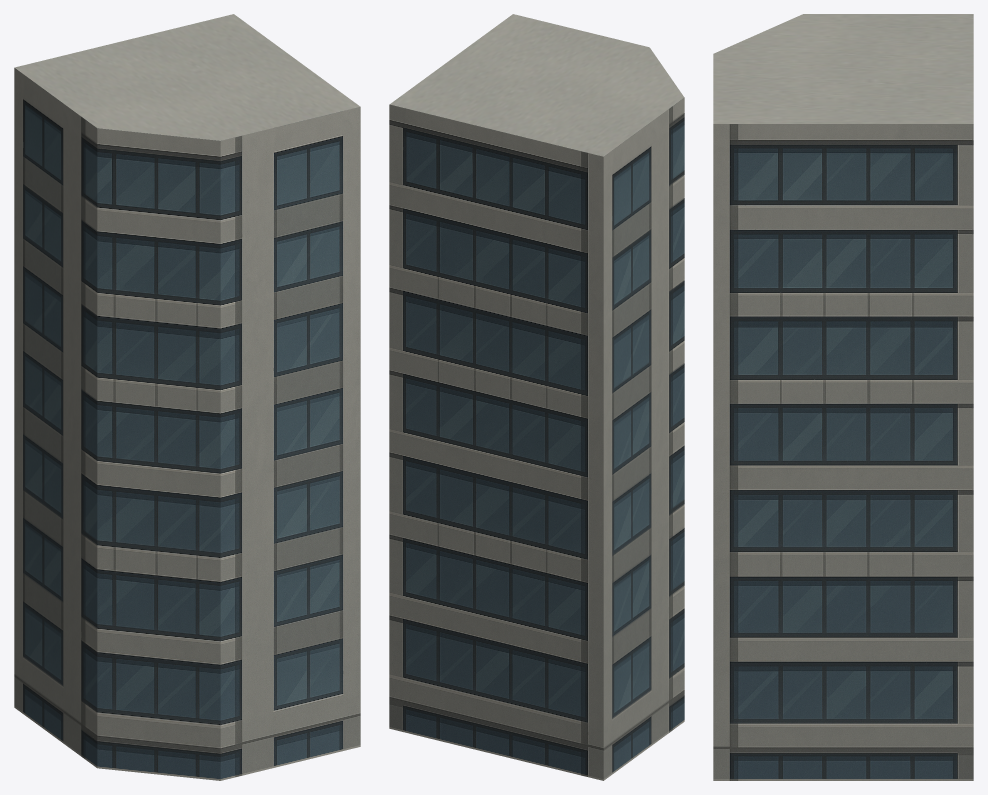
The picture shows the model from 3 angles, left to right: view 1: azimuth 30°, elevation 25°; view 2: azimuth 150°, elevation 25°; view 3: azimuth 270°, elevation 25°; orthographic projection. The views are drawn at different scales.
Parts seen in each view (by area): view 1: 立方体; view 2: 立方体; view 3: 立方体.
Part boxes in pixels (x1,y1,x2,y2): 立方体: (14,14,360,780); 立方体: (389,14,684,780); 立方体: (713,14,973,780).
Size of the model in its own units: 2 by 5.57 by 2.
Materials: 1 (1 with a texture image).
